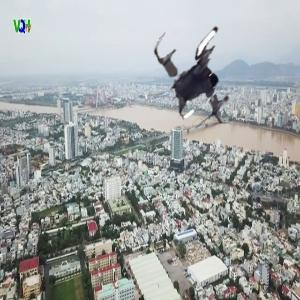drone: (146, 14, 266, 134)
